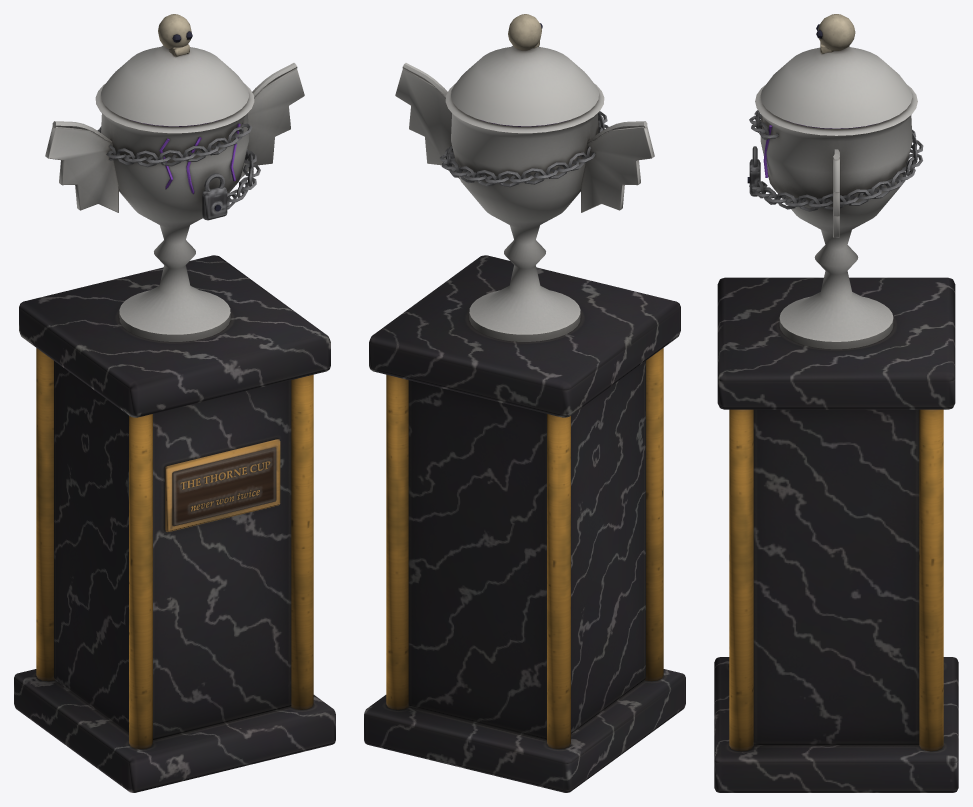
Rendered from CursedTrophy.fbx.
3 renders of one model, left to right at view 1: azimuth 30°, elevation 25°; view 2: azimuth 150°, elevation 25°; view 3: azimuth 270°, elevation 25°, orthographic. The views are drawn at different scales.
Visible parts, largest first — view 1: CursedTrophy_Main; view 2: CursedTrophy_Main; view 3: CursedTrophy_Main.
Boxes of the visible parts, <box> form: CursedTrophy_Main: <box>14,14,335,792</box>; CursedTrophy_Main: <box>364,14,685,792</box>; CursedTrophy_Main: <box>714,14,958,792</box>.
Size of the model in its own units: 224 by 592 by 180.
